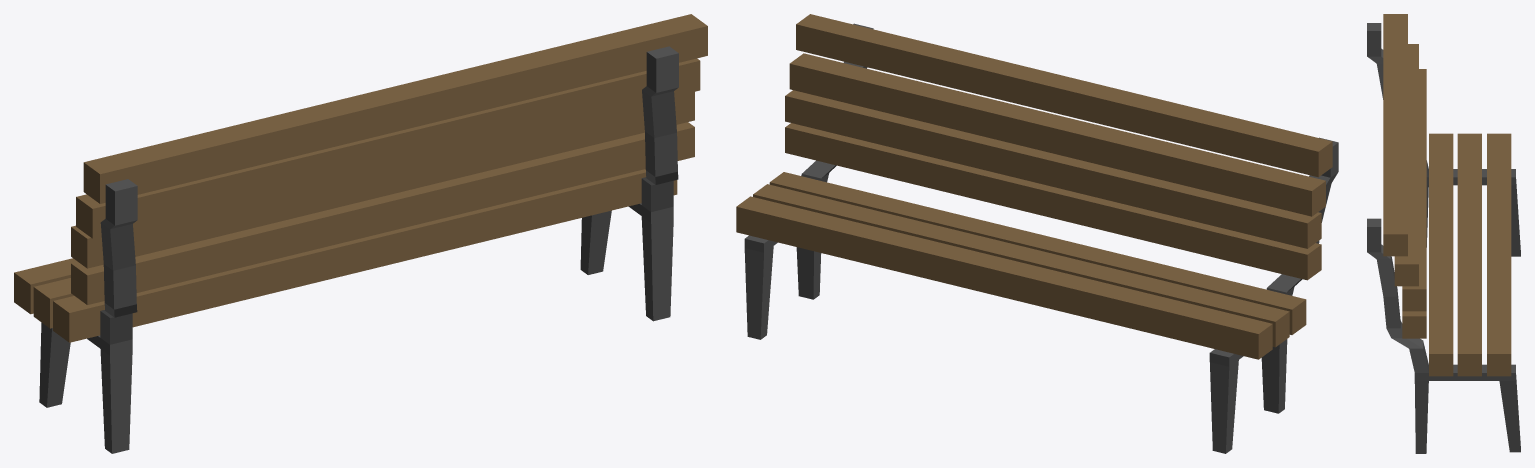
Rendered from bench.fbx.
The picture shows the model from 3 angles, left to right: view 1: azimuth 30°, elevation 25°; view 2: azimuth 150°, elevation 25°; view 3: azimuth 270°, elevation 25°; orthographic projection. The views are drawn at different scales.
Visible parts, largest first — view 1: Bench; view 2: Bench; view 3: Bench.
Boxes of the visible parts, bbox=[...] form: Bench: bbox=[14, 14, 707, 453]; Bench: bbox=[736, 14, 1338, 453]; Bench: bbox=[1367, 14, 1520, 453].
Bounding box in the file's own units: 564 × 270 × 166.
